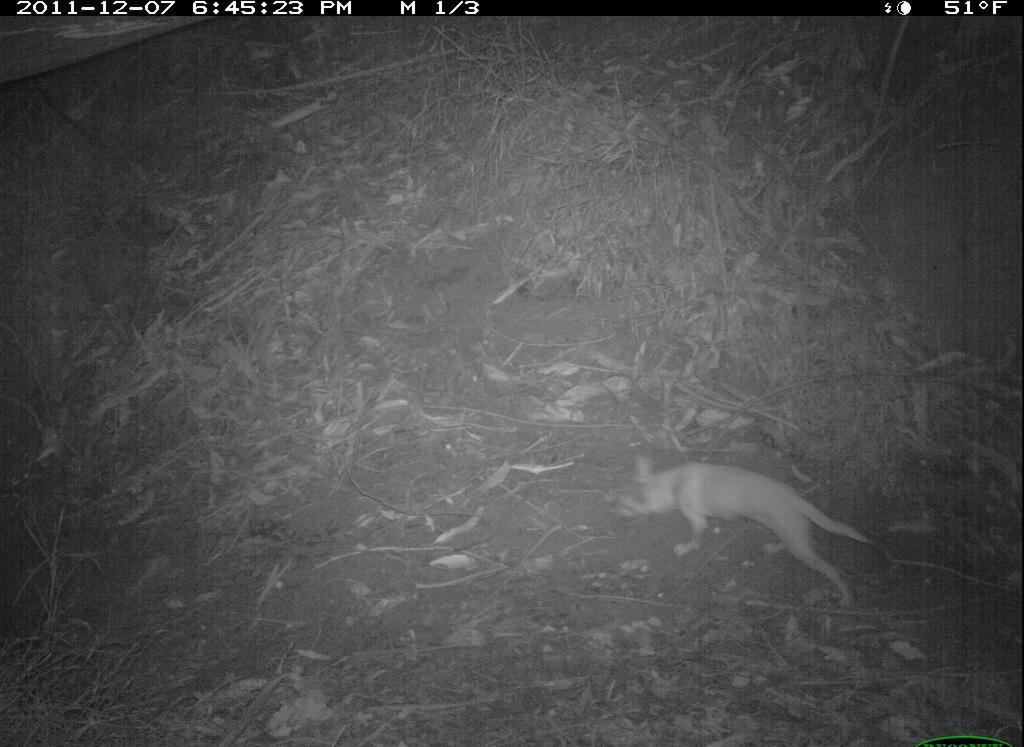dog: (606, 454, 881, 611)
